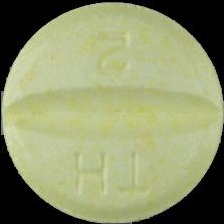0378-1355: (0, 0, 224, 224)
